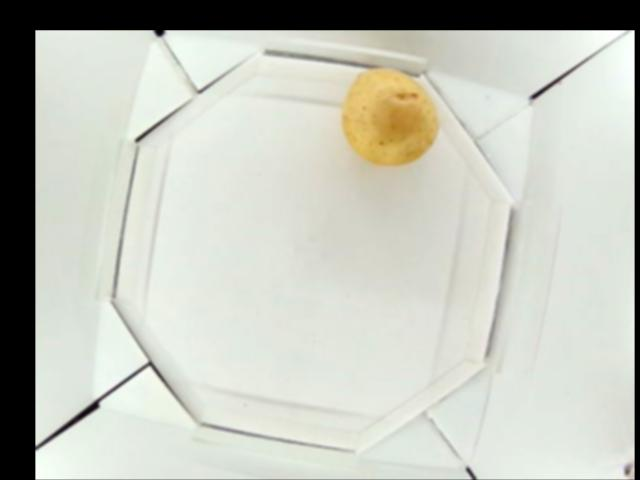Potato: (344, 69, 438, 168)
